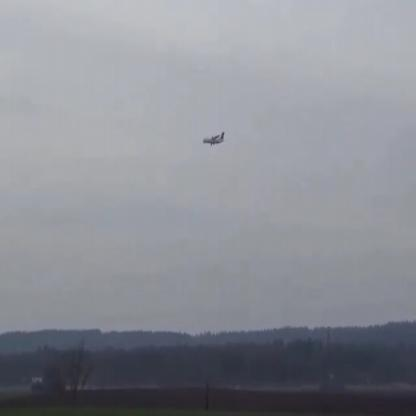CIV_Plane: (202, 132, 223, 148)
